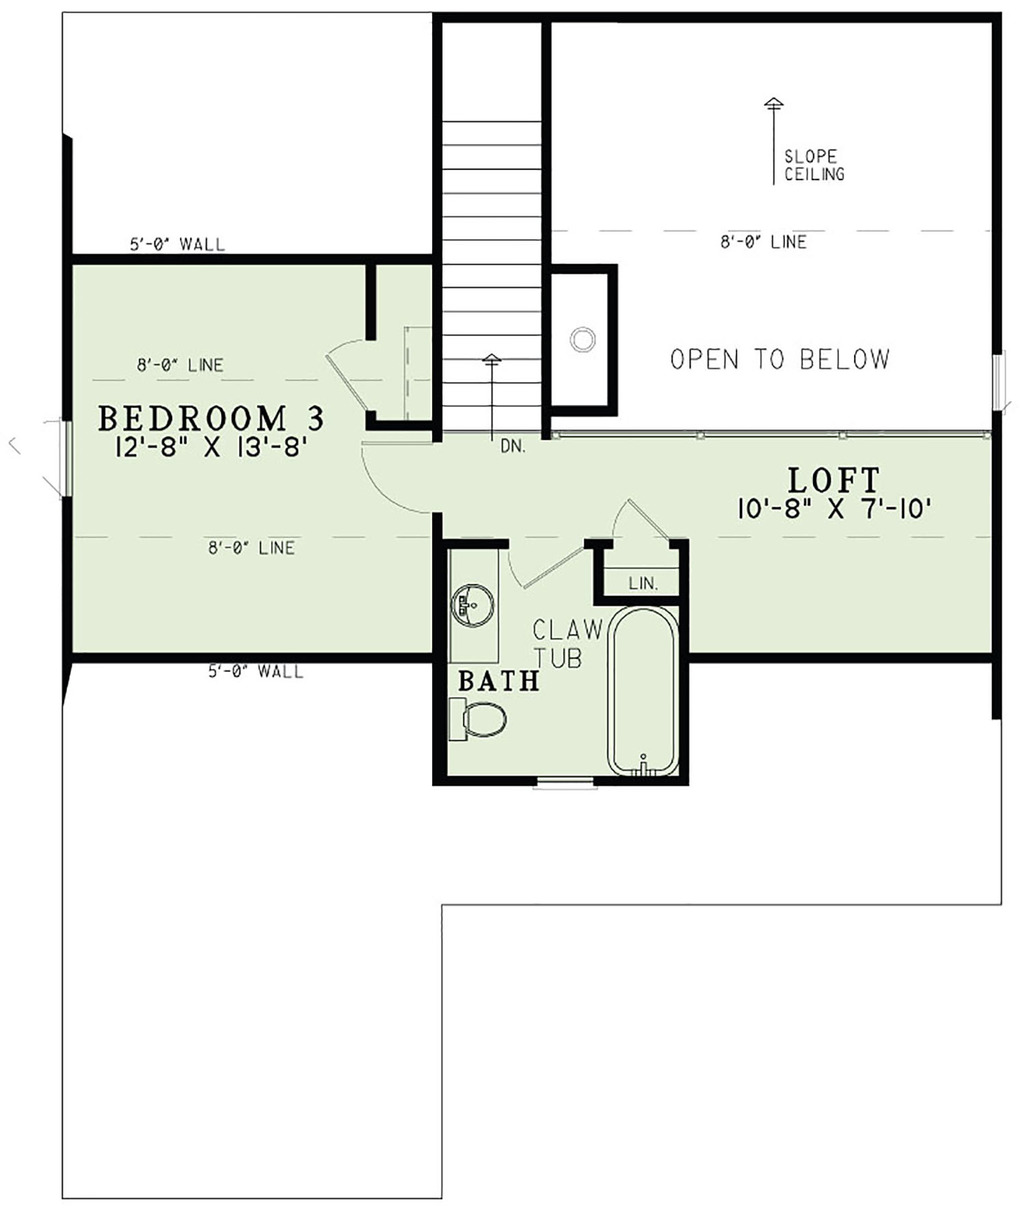door: (355, 437, 442, 521), (320, 325, 385, 423), (496, 532, 586, 593), (599, 492, 690, 547)
large_sink: (446, 684, 514, 758)
small_sink: (448, 547, 509, 666)
stairs: (435, 16, 555, 432)
tub: (607, 599, 679, 777)
window: (527, 766, 603, 793), (990, 351, 1007, 406)
